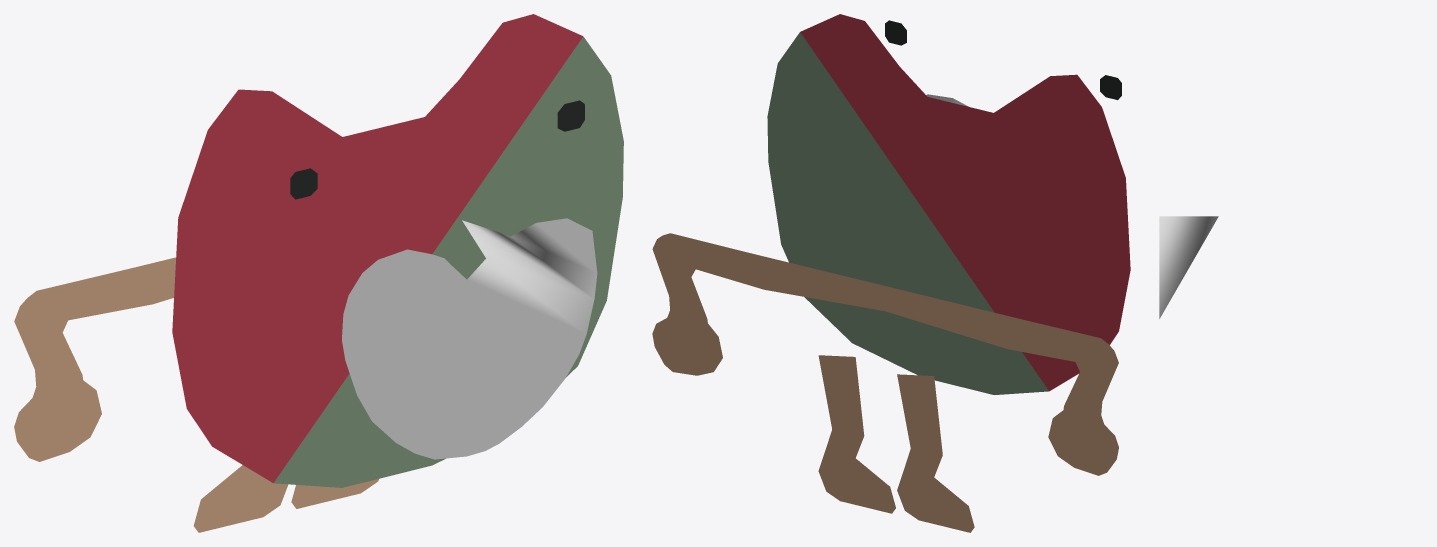
Rendered from file_haha_crouch.fbx.
3 renders of one model, left to right at view 1: azimuth 30°, elevation 25°; view 2: azimuth 150°, elevation 25°; view 3: azimuth 270°, elevation 25°, orthographic. The views are drawn at different scales.
Visible parts, largest first — view 1: polySurface21; view 2: polySurface21; view 3: polySurface21.
Boxes of the visible parts, bbox=[...] form: polySurface21: bbox=[14, 14, 623, 532]; polySurface21: bbox=[652, 14, 1130, 532]; polySurface21: bbox=[1159, 216, 1218, 318].
Bounding box in the file's own units: 1.61 × 1.39 × 0.7588.
